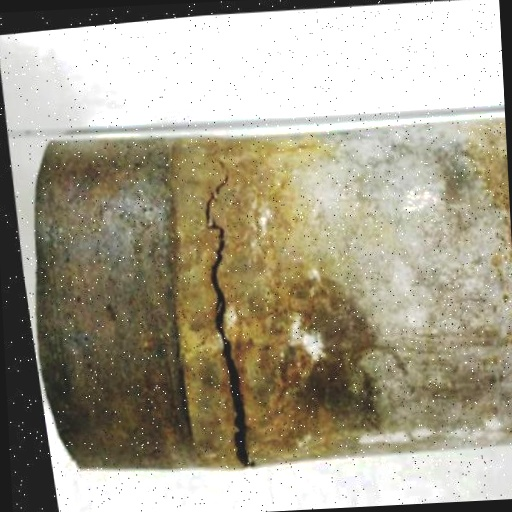crack: (175, 151, 287, 474)
